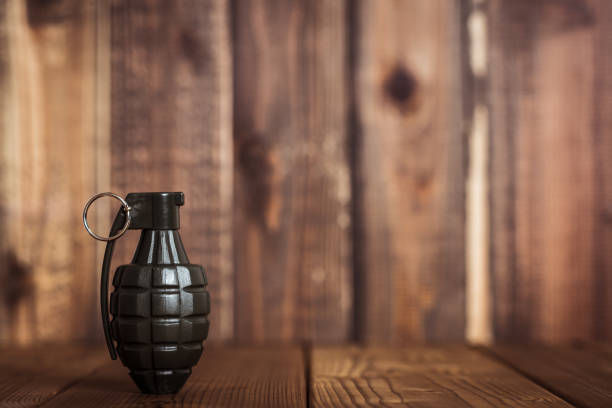e1: (80, 191, 210, 394)
